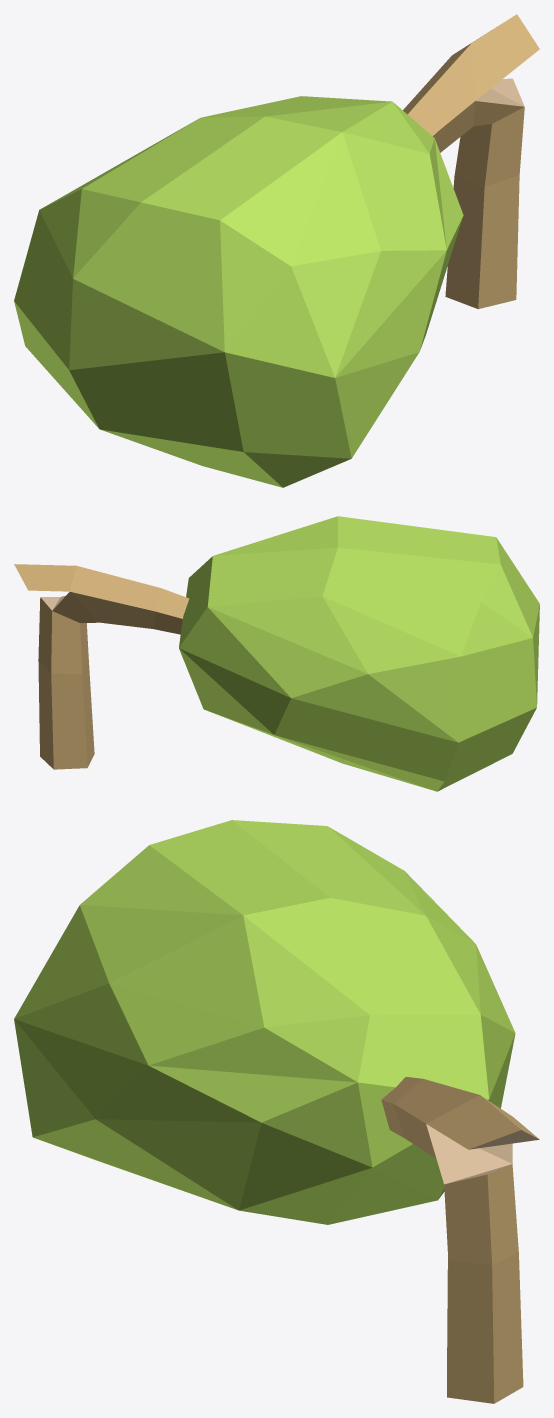
Rendered from Simple_Tree_crk_m_BT_02.fbx.
3 renders of one model, top to bottom at view 1: azimuth 30°, elevation 25°; view 2: azimuth 150°, elevation 25°; view 3: azimuth 270°, elevation 25°, orthographic. The views are drawn at different scales.
Visible parts, largest first — view 1: Simple_Tree_crk_m_BT_02; view 2: Simple_Tree_crk_m_BT_02; view 3: Simple_Tree_crk_m_BT_02.
Part boxes in pixels (x1,y1,x2,y2): Simple_Tree_crk_m_BT_02: [14, 14, 539, 487]; Simple_Tree_crk_m_BT_02: [14, 516, 539, 791]; Simple_Tree_crk_m_BT_02: [14, 820, 539, 1403].
Bounding box in the file's own units: 521 × 263 × 373.
